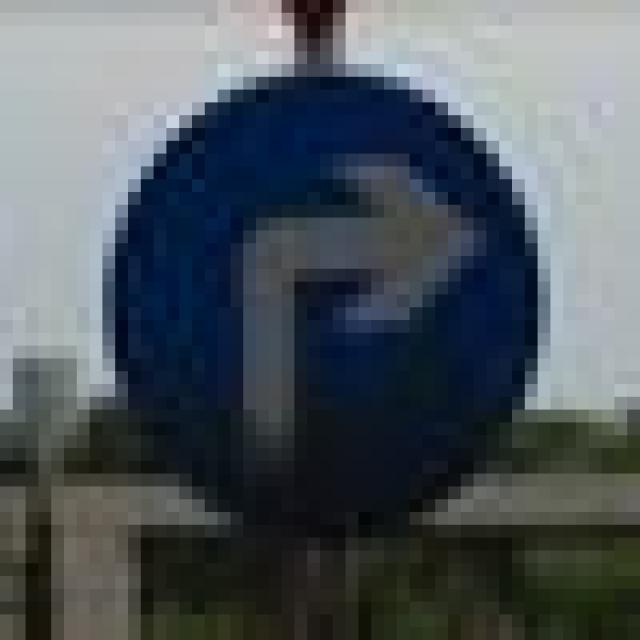TURN_RIGHT: (77, 51, 525, 499)
